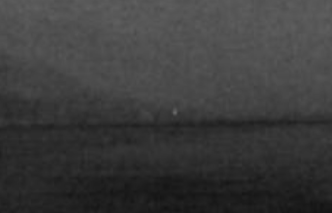Target: (173, 109, 176, 114)
